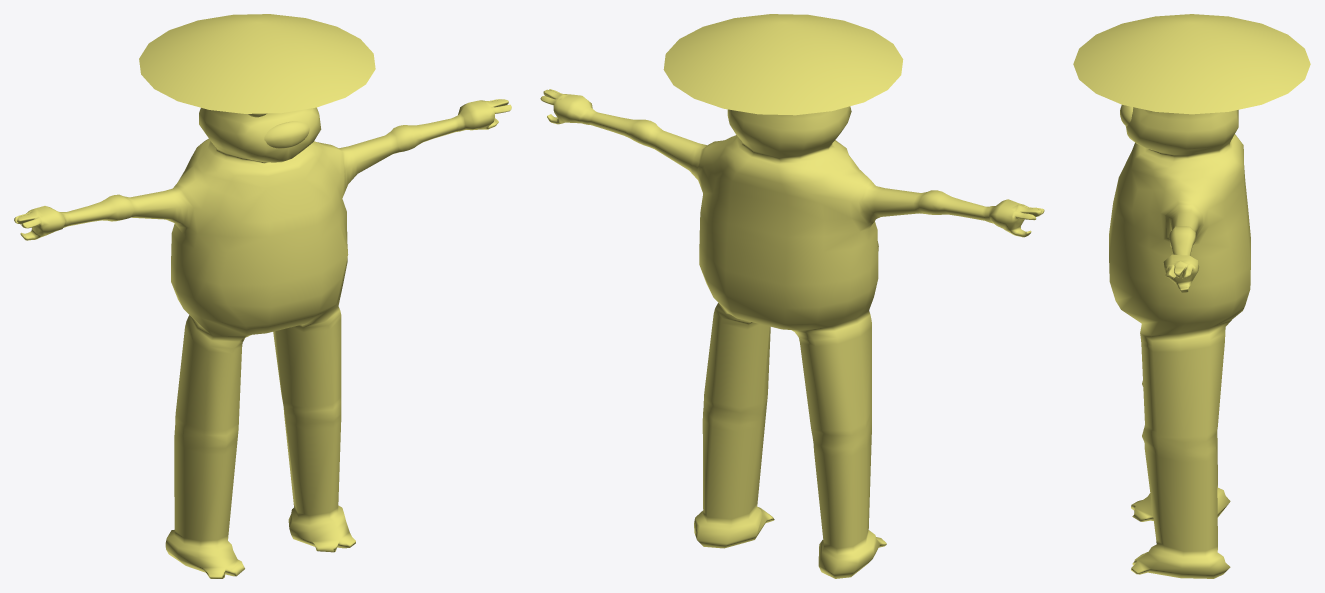
File: FROG_1.fbx
3 renders of one model, left to right at view 1: azimuth 30°, elevation 25°; view 2: azimuth 150°, elevation 25°; view 3: azimuth 270°, elevation 25°, orthographic.
Visible parts, largest first — view 1: polySurface5, pCone1; view 2: polySurface5, pCone1; view 3: polySurface5, pCone1.
Boxes of the visible parts, x1,y1,x2,y2 form: polySurface5: (14, 99, 511, 578); pCone1: (139, 14, 375, 113); polySurface5: (540, 89, 1044, 578); pCone1: (663, 14, 903, 115); polySurface5: (1109, 105, 1250, 578); pCone1: (1073, 14, 1310, 114).
Bounding box in the file's own units: 9.57 × 9.74 × 4.01.
